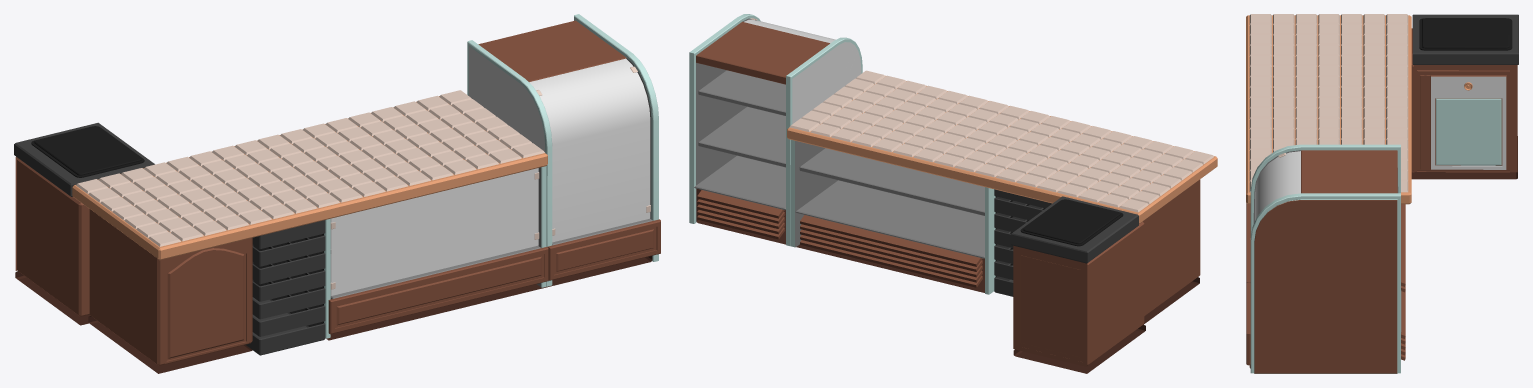
File: Coffee_bar.fbx
The picture shows the model from 3 angles, left to right: view 1: azimuth 30°, elevation 25°; view 2: azimuth 150°, elevation 25°; view 3: azimuth 270°, elevation 25°; orthographic projection. The views are drawn at different scales.
Parts seen in each view (by area): view 1: Cube.001, Plane.020, Plane.023, Plane.003, Plane.008, Plane.009, Plane.021, Plane.001, Plane.006, Cube, Plane.019, Plane.005 (+7 smaller); view 2: Cube.001, Plane.006, Plane.028, Plane.021, Plane.011, Plane.013, boleen, Plane.003, Plane.012, Cube, Plane.019, Plane.007 (+9 smaller); view 3: Plane.018, Cube.001, Plane.014, Plane.015, Plane.019, Plane.006, Plane.017, Cube, Plane.016, Plane.020, Plane.021, Plane.011 (+5 smaller).
Boxes of the visible parts, bbox=[...] form: Cube.001: bbox=[76, 90, 544, 246]; Plane.020: bbox=[529, 58, 650, 242]; Plane.023: bbox=[331, 168, 538, 295]; Plane.003: bbox=[89, 209, 252, 365]; Plane.008: bbox=[246, 220, 325, 355]; Plane.009: bbox=[165, 245, 248, 363]; Plane.021: bbox=[17, 158, 89, 316]; Plane.001: bbox=[328, 247, 548, 334]; Plane.006: bbox=[467, 14, 658, 286]; Cube: bbox=[72, 96, 547, 260]; Plane.019: bbox=[478, 20, 626, 81]; Plane.005: bbox=[548, 219, 660, 280]; Cube.001: bbox=[789, 70, 1214, 212]; Plane.006: bbox=[689, 14, 862, 246]; Plane.028: bbox=[795, 180, 984, 258]; Plane.021: bbox=[1017, 221, 1144, 365]; Plane.011: bbox=[1013, 245, 1087, 366]; Plane.013: bbox=[698, 70, 785, 167]; boleen: bbox=[800, 215, 982, 287]; Plane.003: bbox=[1143, 179, 1200, 315]; Plane.012: bbox=[799, 148, 984, 215]; Cube: bbox=[787, 75, 1217, 223]; Plane.019: bbox=[696, 21, 829, 84]; Plane.007: bbox=[791, 140, 995, 294]; Plane.018: bbox=[1254, 199, 1397, 373]; Cube.001: bbox=[1249, 14, 1408, 192]; Plane.014: bbox=[1417, 65, 1509, 172]; Plane.015: bbox=[1436, 98, 1501, 165]; Plane.019: bbox=[1301, 150, 1397, 193]; Plane.006: bbox=[1250, 144, 1400, 373]; Plane.017: bbox=[1419, 18, 1512, 50]; Cube: bbox=[1246, 15, 1411, 204]; Plane.016: bbox=[1412, 14, 1518, 64]; Plane.020: bbox=[1255, 151, 1300, 220]; Plane.021: bbox=[1411, 28, 1509, 171]; Plane.011: bbox=[1411, 65, 1517, 172].
Size of the model in its own units: 292 by 104 by 145.
